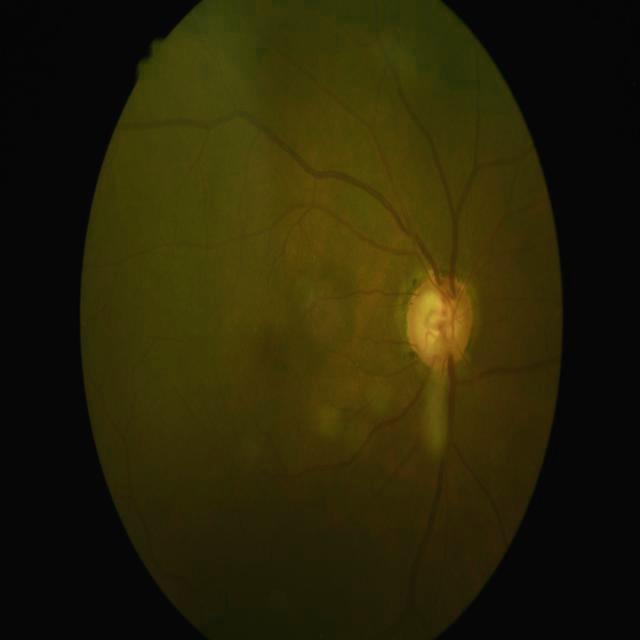cup: (422, 288, 459, 356)
disk: (406, 273, 474, 372)
